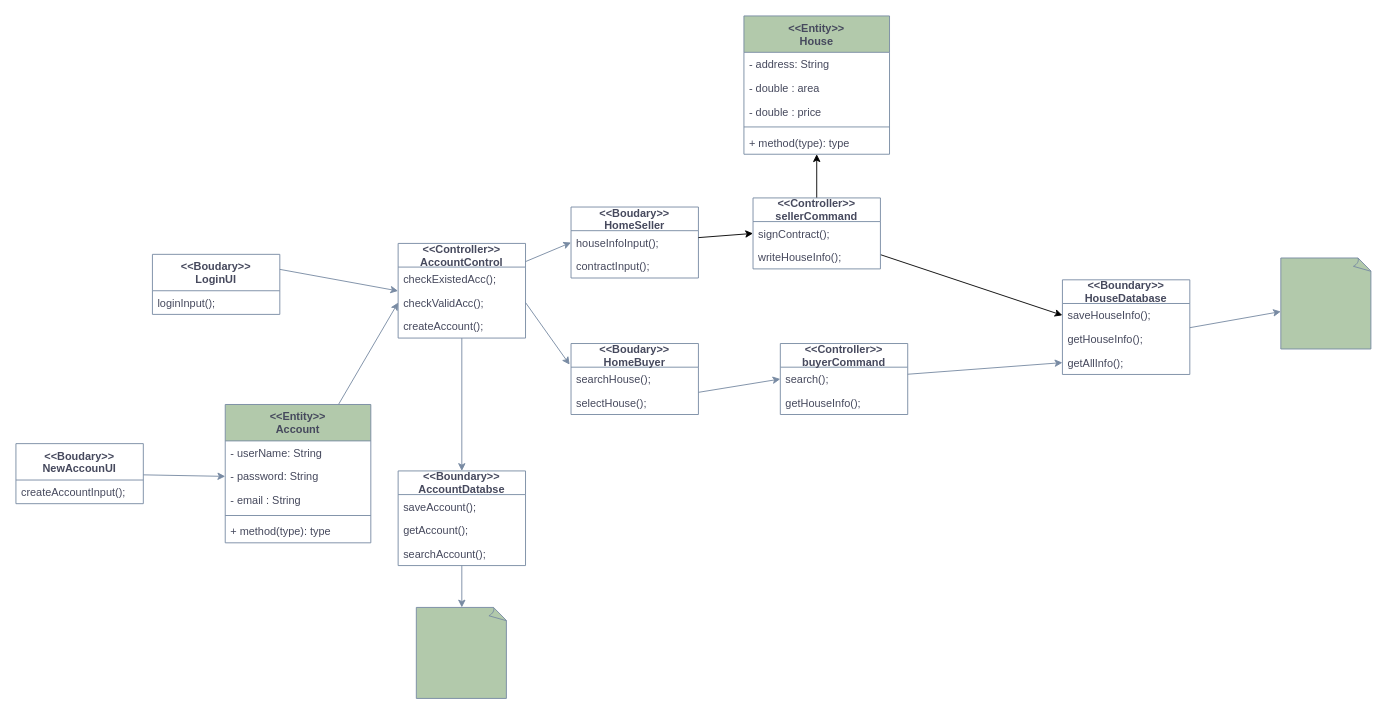
Image size: 1388x714. Some labels were removed from this diagram. The centre of each missing label's shape, as x and y in pixels:
AccountData.json: point (461, 652)
HouseData.json: point (1326, 303)
